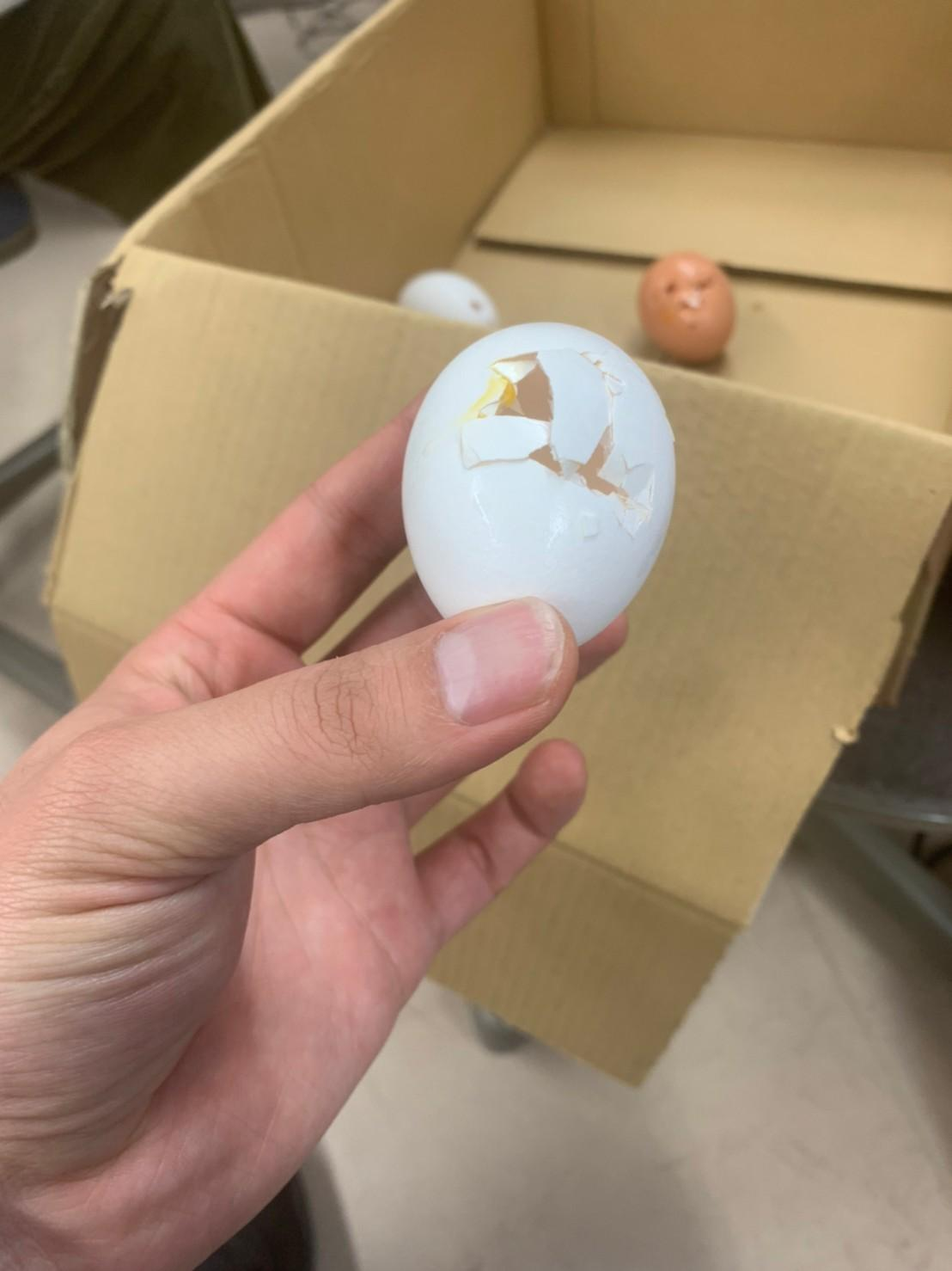egg: (395, 319, 674, 645), (640, 249, 745, 364)
